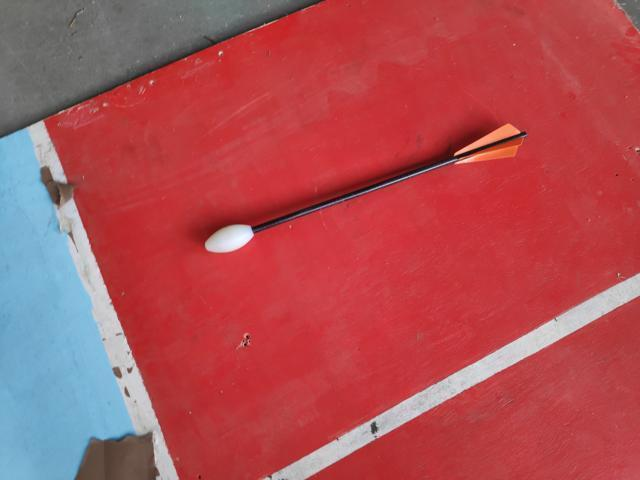Head: (201, 218, 257, 256)
Tail: (449, 122, 528, 164)
